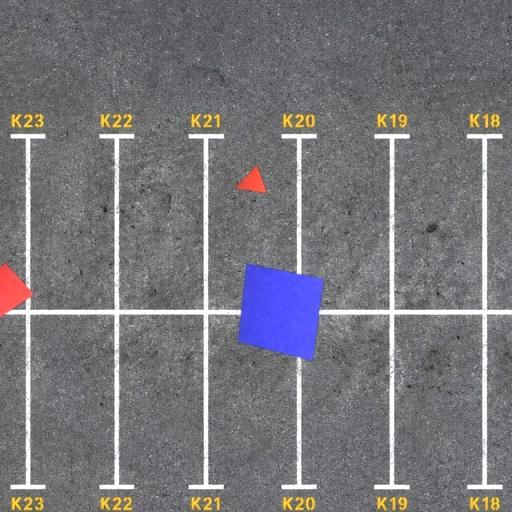BLUE_SQUARE: (237, 262, 324, 361)
RED_SQUARE: (0, 262, 34, 319)
